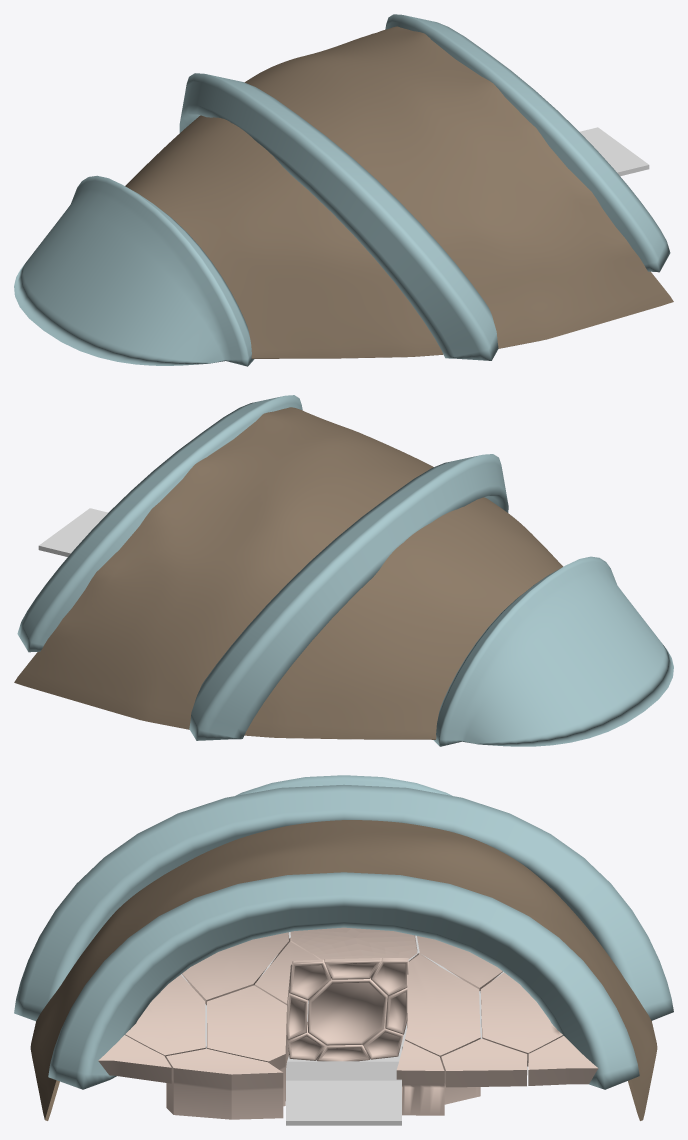
File: house1.fbx
3 renders of one model, top to bottom at view 1: azimuth 30°, elevation 25°; view 2: azimuth 150°, elevation 25°; view 3: azimuth 270°, elevation 25°, orthographic. The views are drawn at different scales.
Visible parts, largest first — view 1: toit, BezierCurve.003, BezierCurve.002, BezierCurve.001, Cube.003; view 2: toit, BezierCurve.003, BezierCurve.002, BezierCurve.001, Cube.003; view 3: Plane.002, BezierCurve.001, BezierCurve.002, toit, DOORWALL, Cube.003, BezierCurve.003.
Part boxes in pixels (<box>): toit: <box>125,26,673,358</box>; BezierCurve.003: <box>14,175,254,366</box>; BezierCurve.002: <box>179,73,498,360</box>; BezierCurve.001: <box>385,14,670,272</box>; Cube.003: <box>579,127,649,176</box>; toit: <box>14,407,563,739</box>; BezierCurve.003: <box>433,556,673,746</box>; BezierCurve.002: <box>189,454,508,740</box>; BezierCurve.001: <box>17,395,302,652</box>; Cube.003: <box>38,508,107,556</box>; Plane.002: <box>98,927,598,1119</box>; BezierCurve.001: <box>48,872,639,1089</box>; BezierCurve.002: <box>14,784,673,1021</box>; toit: <box>30,820,657,1120</box>; DOORWALL: <box>287,954,408,1061</box>; Cube.003: <box>181,932,503,1125</box>; BezierCurve.003: <box>235,775,452,795</box>.
Bounding box in the file's own units: 148 × 45.08 × 129.
